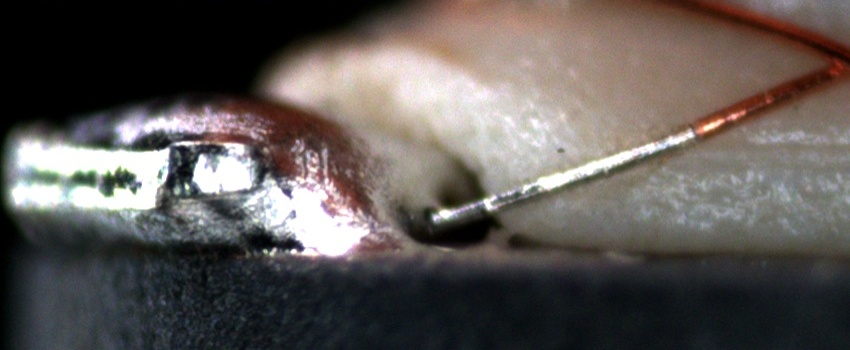CL: (801, 33, 849, 90)
DL: (688, 122, 850, 181)
TS: (434, 122, 697, 225)
